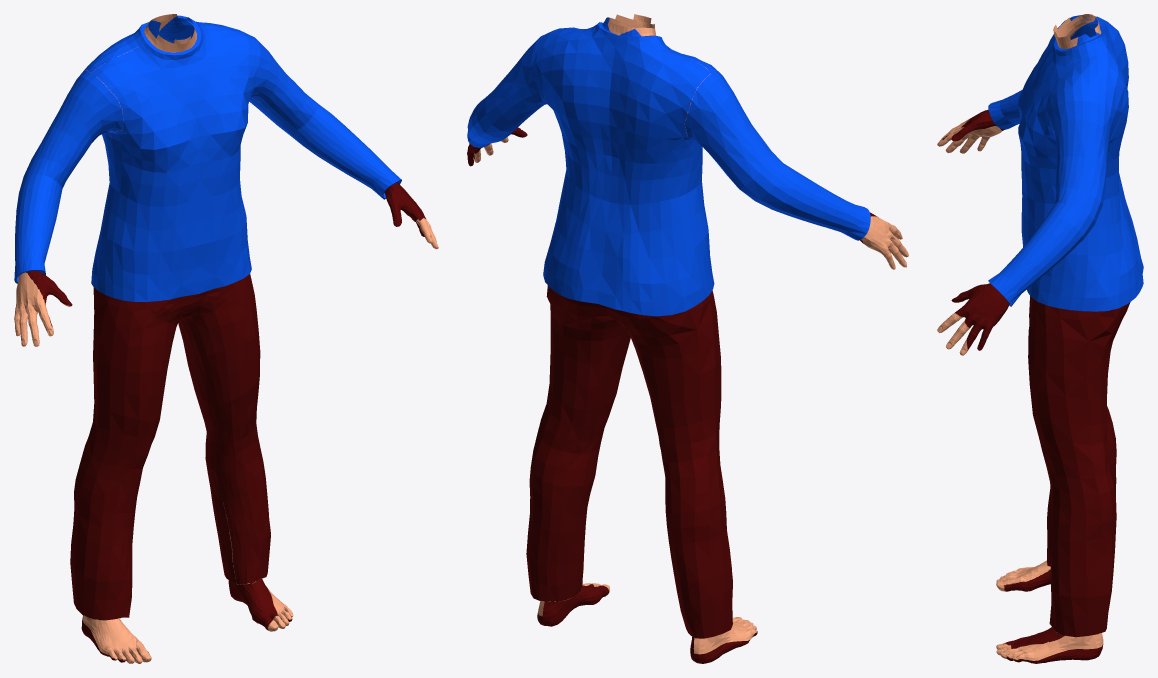
File: torso.dae
3 views of the same model, side by side, from view 1: azimuth 30°, elevation 25°; view 2: azimuth 150°, elevation 25°; view 3: azimuth 270°, elevation 25° (orthographic). The views are drawn at different scales.
Parts seen in each view (by area): view 1: node; view 2: node; view 3: node.
Boxes of the visible parts, left/top/right/bottom form: node: left=14, top=14, right=438, bottom=663; node: left=467, top=14, right=908, bottom=663; node: left=937, top=14, right=1143, bottom=663.
Bounding box in the file's own units: 1.05 × 1.45 × 0.4515.
Materials: 1 (1 with a texture image).
